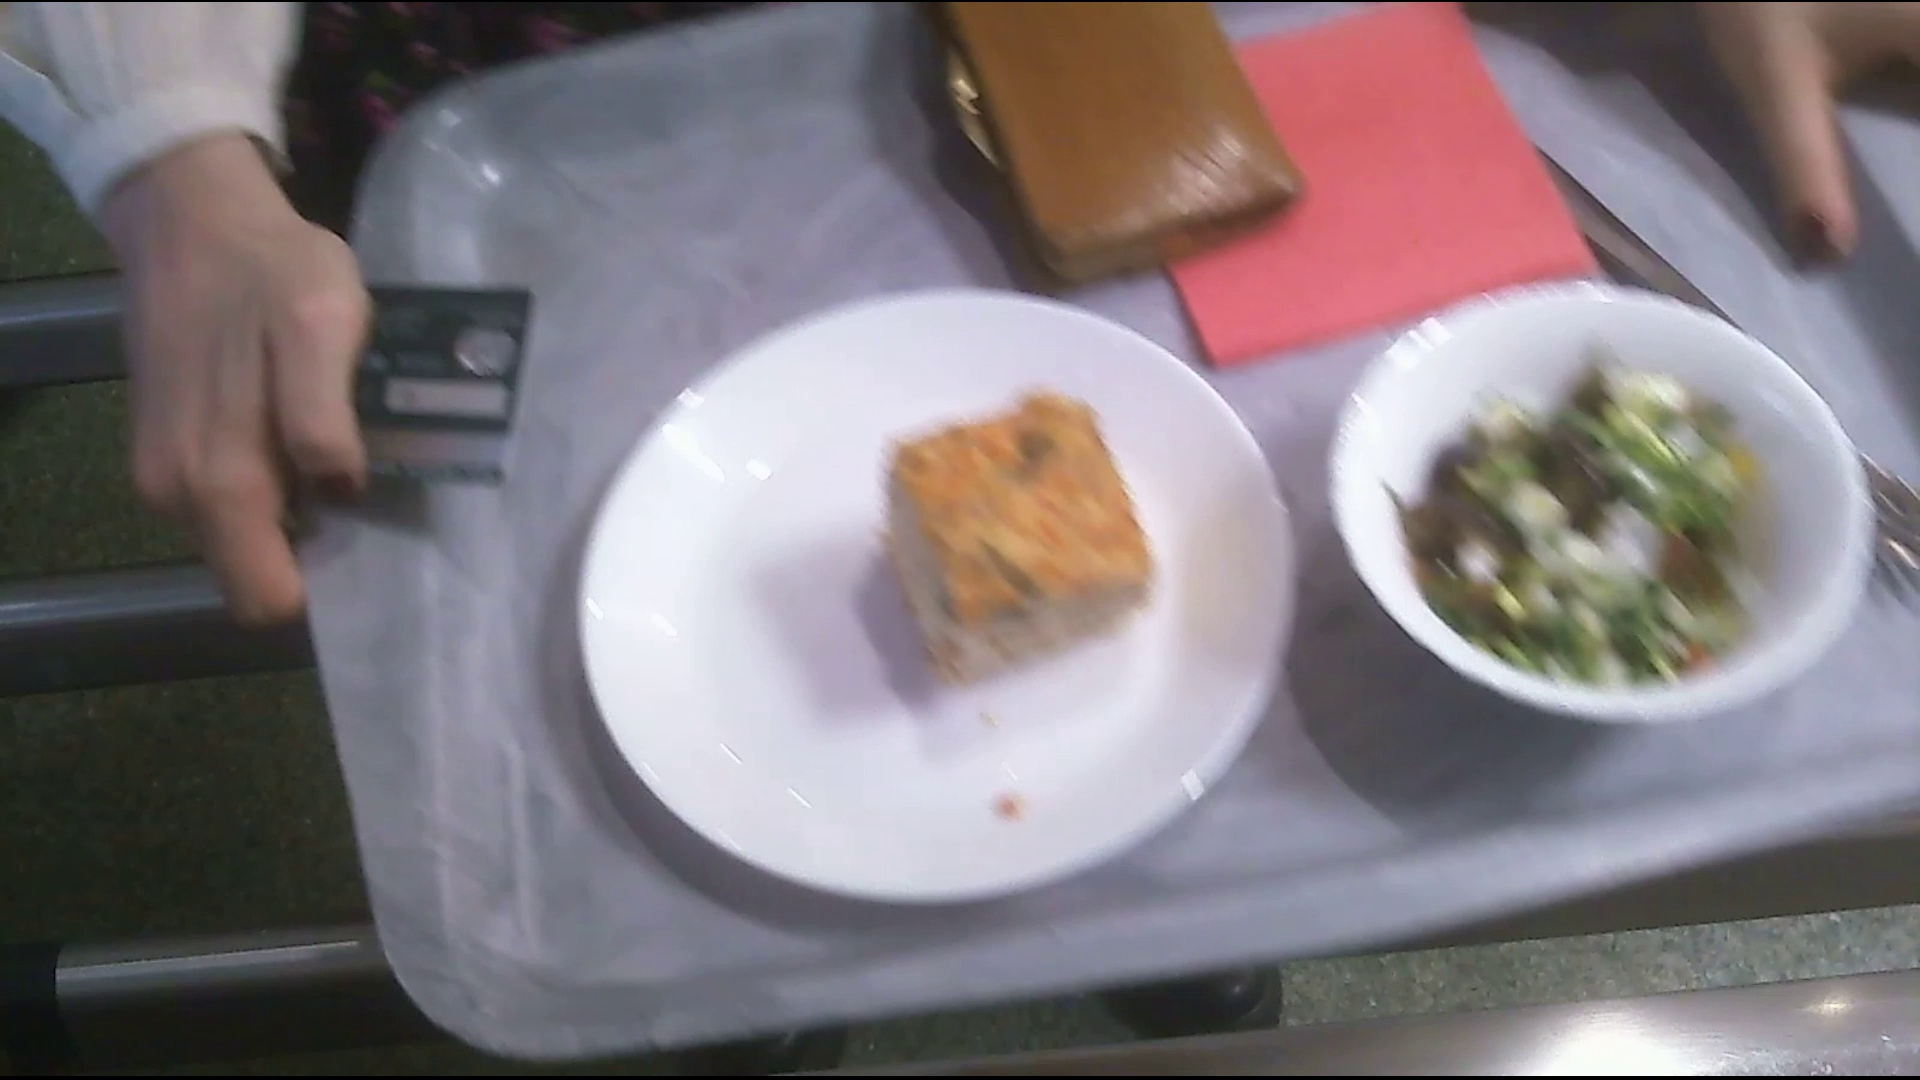bowl: (1346, 280, 1874, 716)
other: (938, 11, 1308, 266)
plate: (584, 289, 1299, 901)
